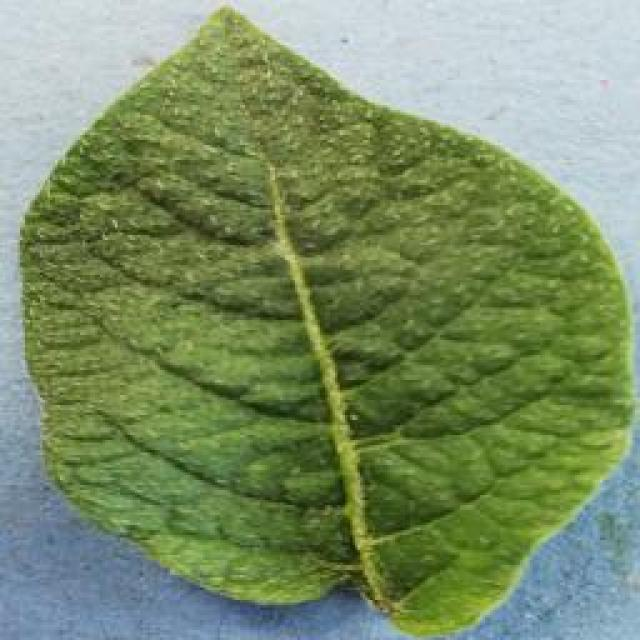Potato_Healthy: (19, 2, 623, 628)
